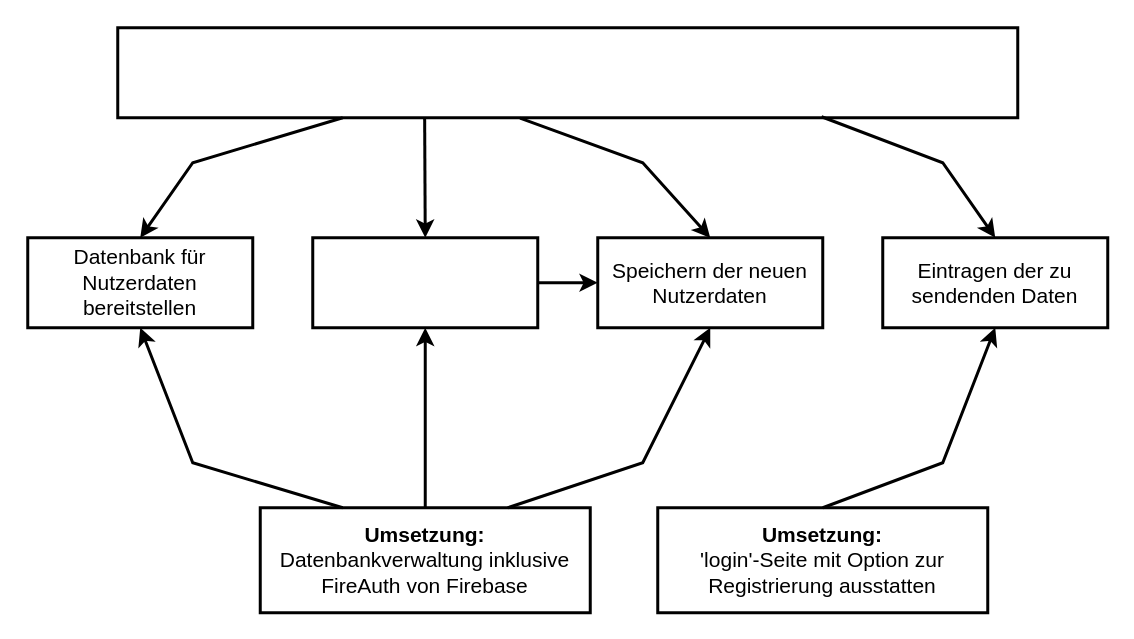
Some shapes in this 1134 by 639 pixel diagram are drawn without their labels. The shapes that lost their labels are listed below. From the top down, each one's centre as x and y in pixels, then its label:
At point 567,72: "Use-Case: Einen Account erstellen".
At point 424,282: "Prüfung der gesendeten Daten".
